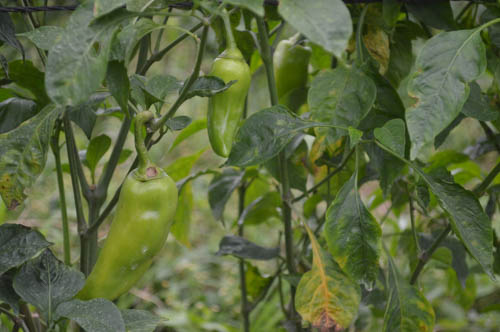ChiliPepper: (77, 170, 179, 312), (205, 54, 252, 162), (272, 39, 313, 113)
